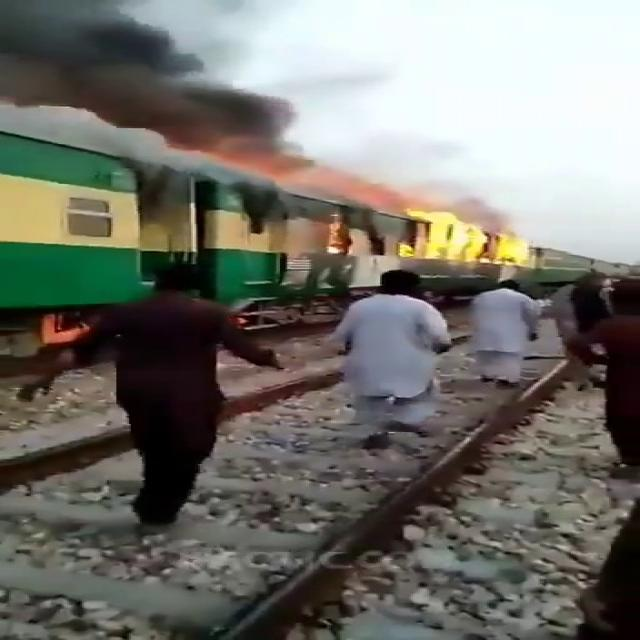Fire: (405, 214, 527, 262), (327, 220, 351, 253)
Smoke: (0, 14, 309, 169), (0, 106, 342, 199), (244, 184, 285, 254)
